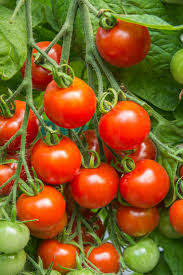stems: (33, 41, 66, 83), (2, 79, 27, 115), (38, 28, 63, 61), (86, 1, 113, 25), (81, 217, 102, 247), (1, 128, 22, 154), (61, 209, 76, 243), (23, 158, 35, 192), (117, 229, 136, 247), (11, 189, 19, 225), (1, 172, 17, 190)
tomato: (95, 15, 151, 69), (42, 75, 97, 129), (30, 133, 82, 185), (97, 101, 152, 150), (19, 41, 71, 92), (119, 159, 170, 208), (69, 162, 118, 208), (17, 184, 66, 229), (1, 100, 39, 154), (37, 239, 81, 273), (123, 237, 160, 274), (116, 207, 160, 237), (67, 211, 104, 244), (81, 243, 120, 273), (109, 137, 157, 160), (29, 210, 67, 239), (1, 218, 31, 254), (1, 247, 26, 275), (1, 160, 17, 198), (170, 46, 183, 86), (169, 198, 183, 235)
